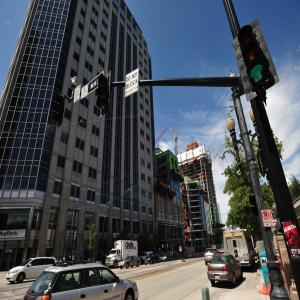Vehicle-registration-plate: (215, 275, 220, 281)
